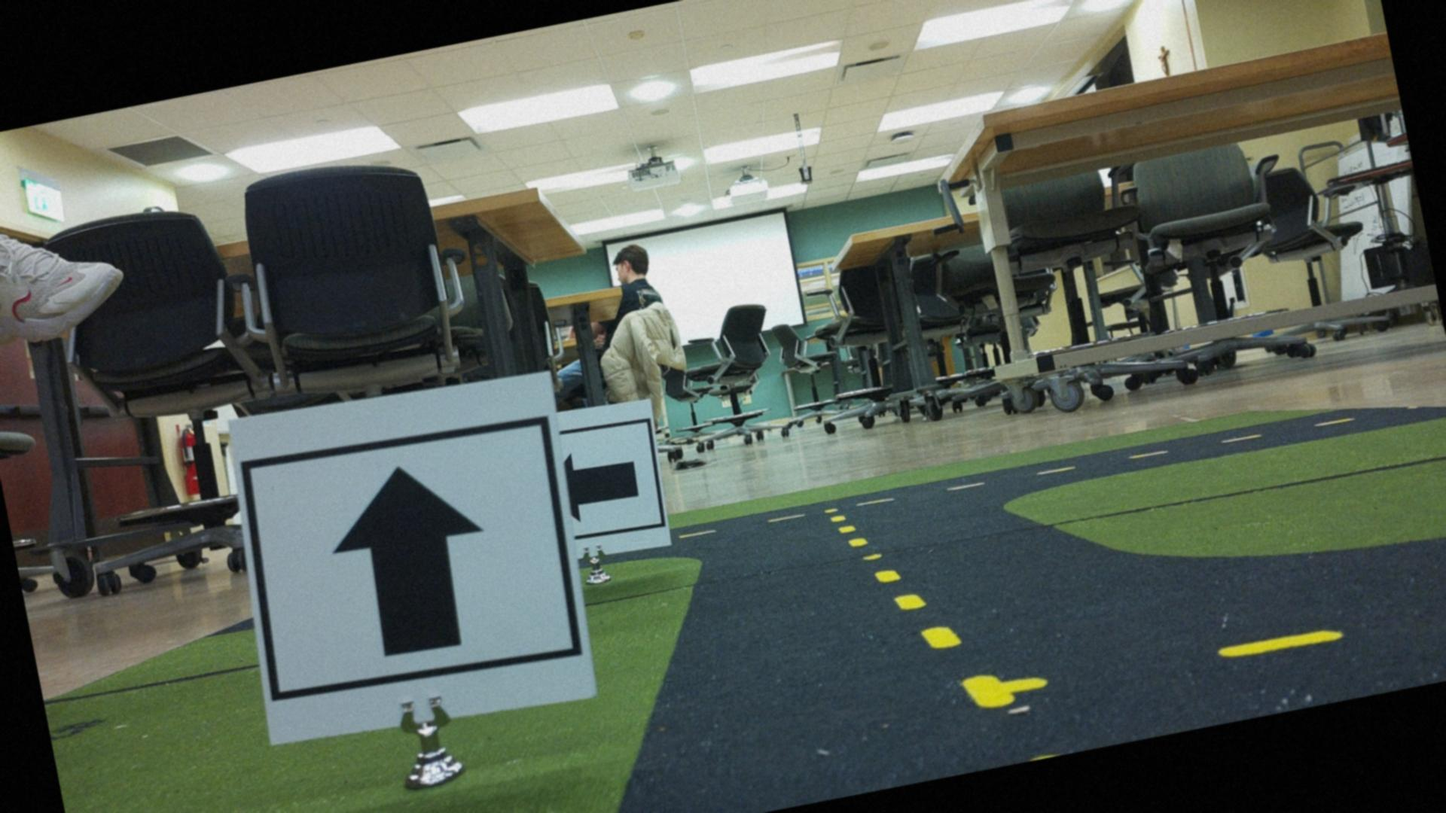gostraight: (235, 377, 596, 772)
yellowline: (822, 480, 1012, 738)
